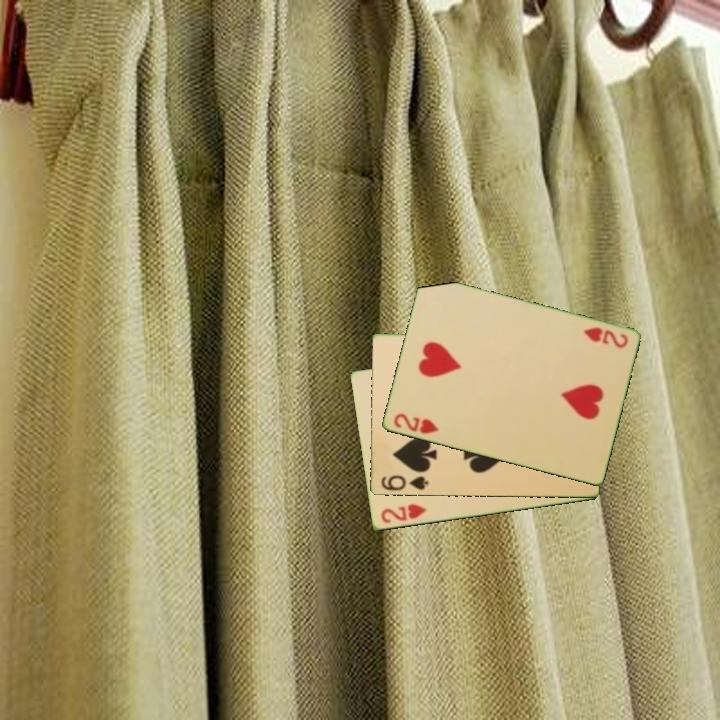2h: (579, 324, 631, 352), (390, 410, 441, 437), (377, 500, 429, 526)
6s: (377, 472, 431, 494)
